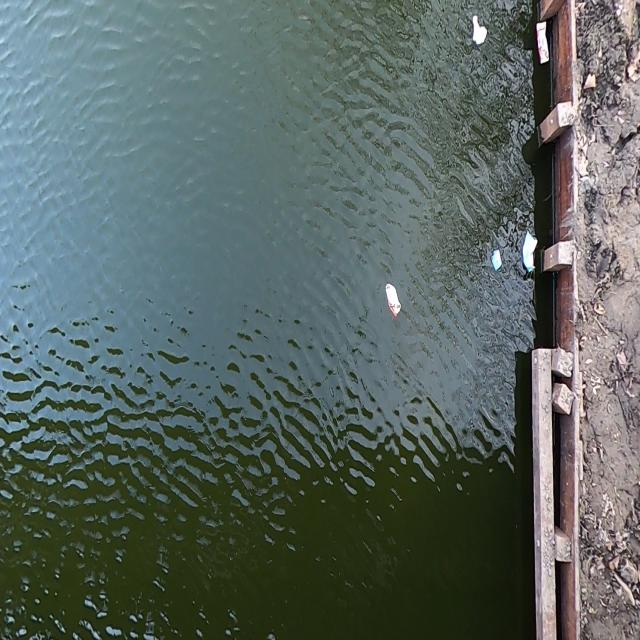Non plastique: (519, 224, 539, 284)
